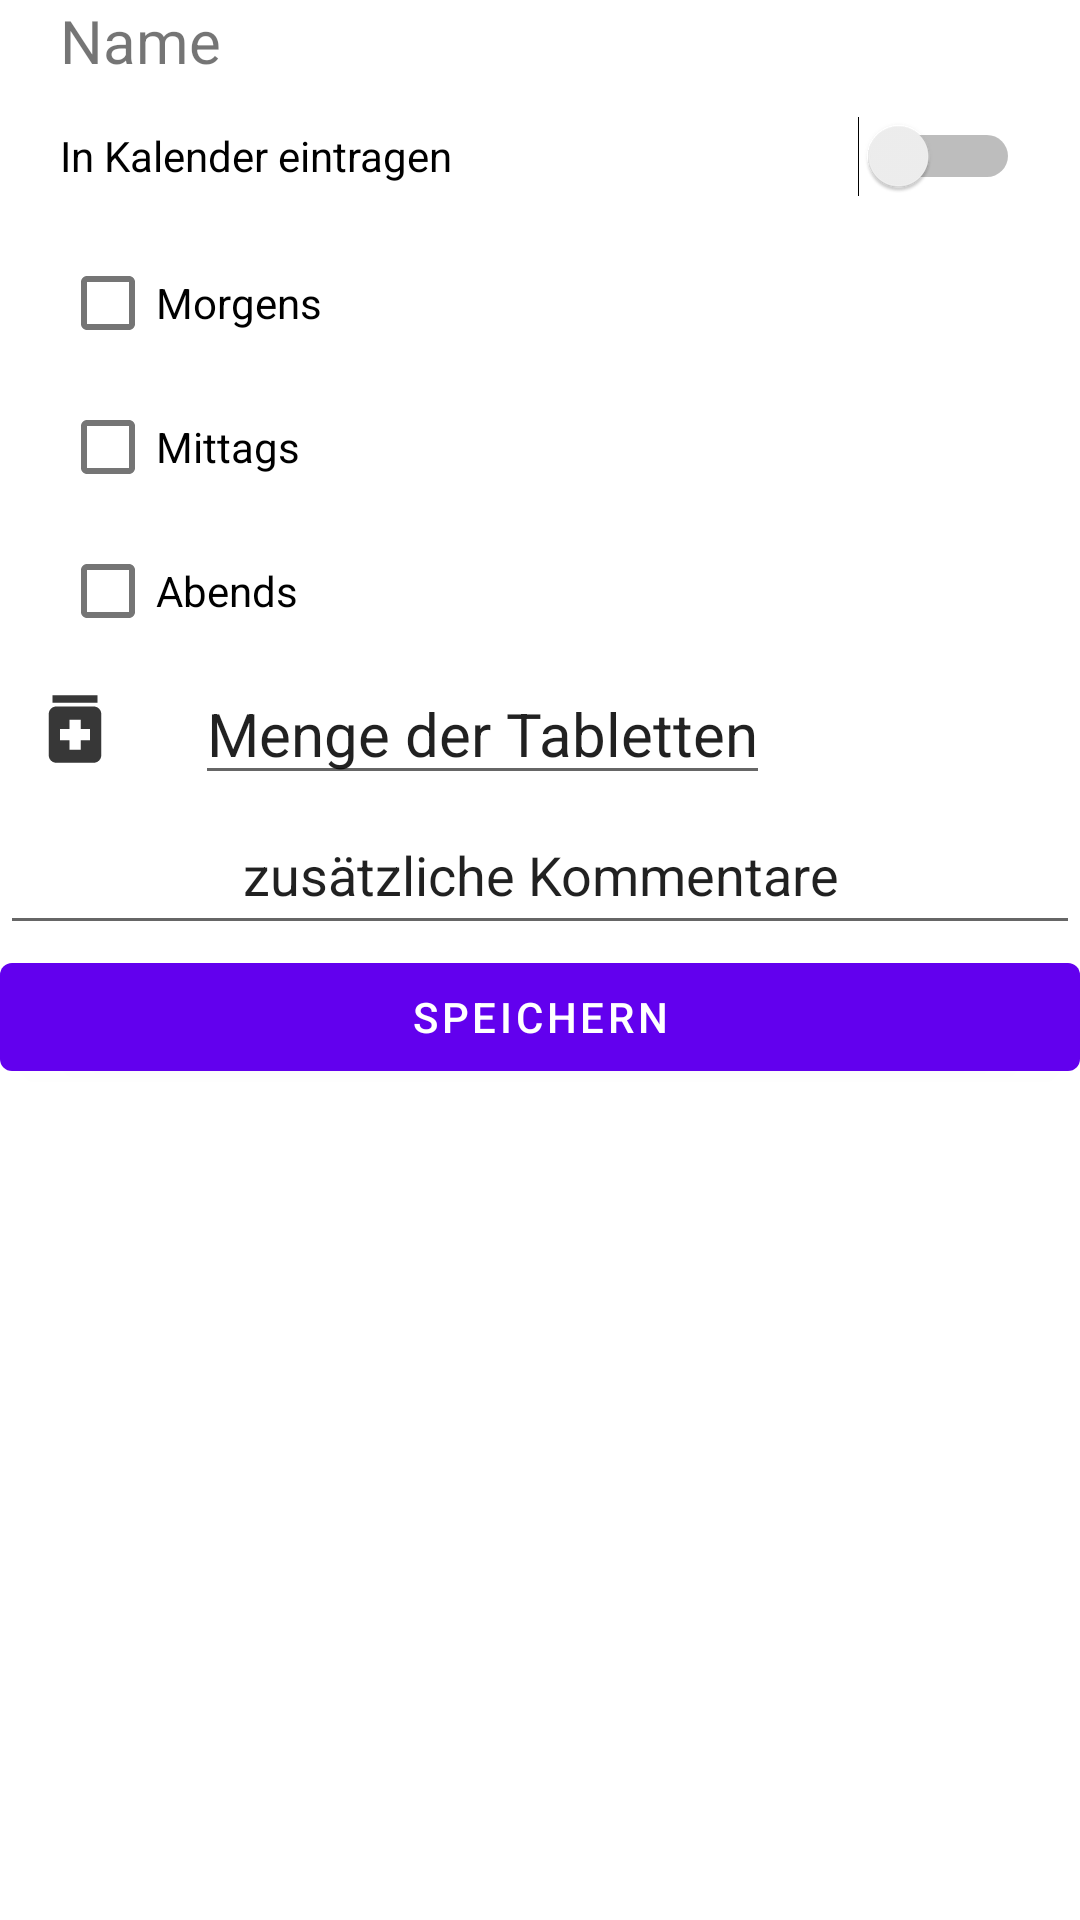

Where icons sit on this 1080×1920 app screen, as bbox=[x1, y1, x2, y2]:
pills: bbox=[48, 695, 102, 763]
